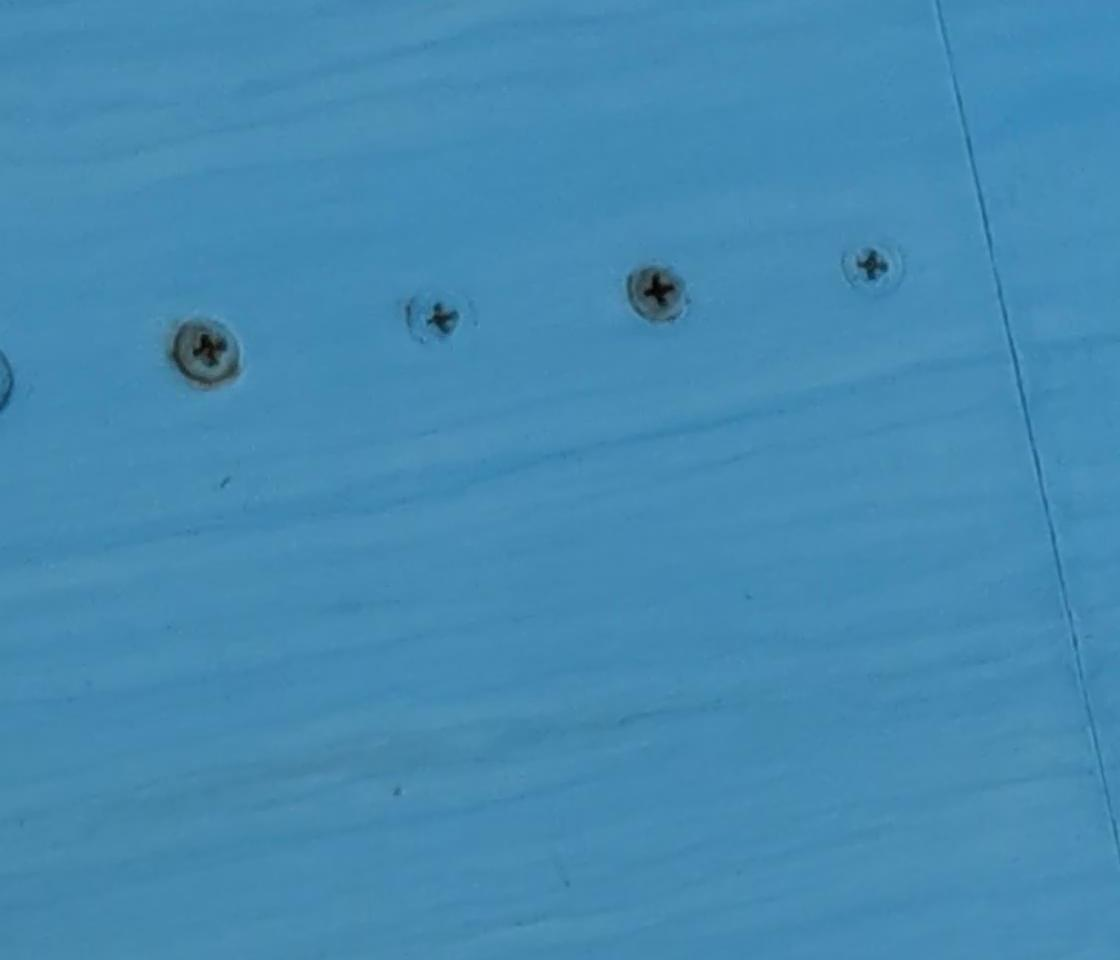rivet_damage: (153, 309, 248, 396), (625, 263, 703, 328)
